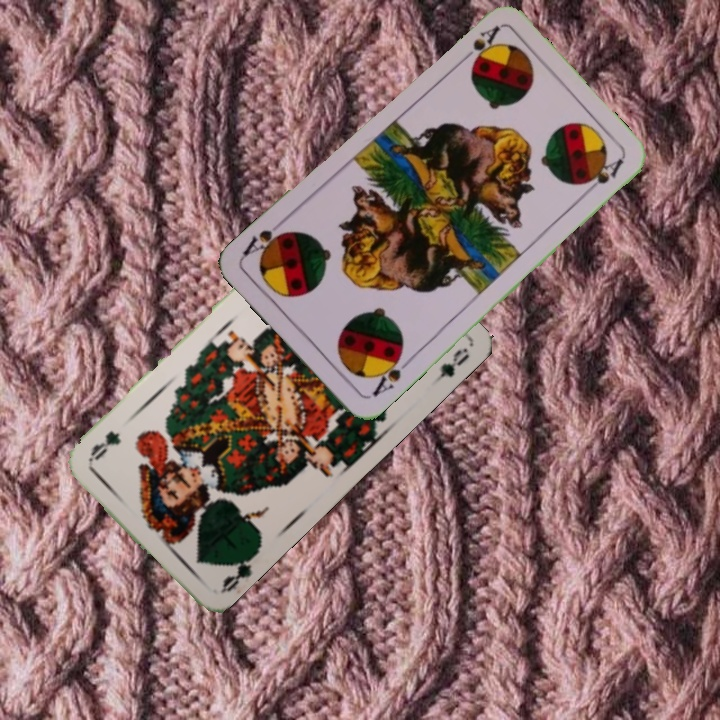GO: (218, 548, 262, 595)
SA: (368, 348, 414, 399), (454, 21, 503, 67)
